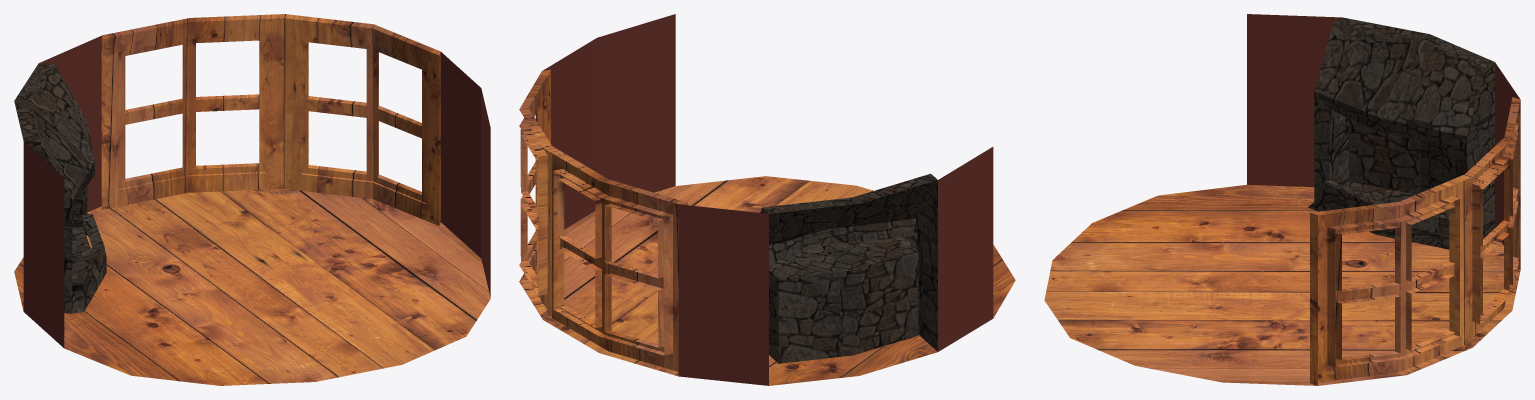
The model's file is Soba.fbx.
3 views of the same model, side by side, from view 1: azimuth 30°, elevation 25°; view 2: azimuth 150°, elevation 25°; view 3: azimuth 270°, elevation 25° (orthographic).
Visible parts, largest first — view 1: Soba, Prozori, Pecnica; view 2: Soba, Pecnica, Prozori; view 3: Soba, Pecnica, Prozori.
Boxes of the visible parts, <box> form: Soba: <box>14,35,490,385</box>; Prozori: <box>101,14,440,225</box>; Pecnica: <box>14,63,106,313</box>; Soba: <box>519,14,1015,385</box>; Pecnica: <box>760,173,937,363</box>; Prozori: <box>519,69,687,376</box>; Soba: <box>1044,14,1520,385</box>; Pecnica: <box>1308,17,1494,249</box>; Prozori: <box>1310,97,1520,385</box>.
Bounding box in the file's own units: 2906 × 1150 × 2906.
